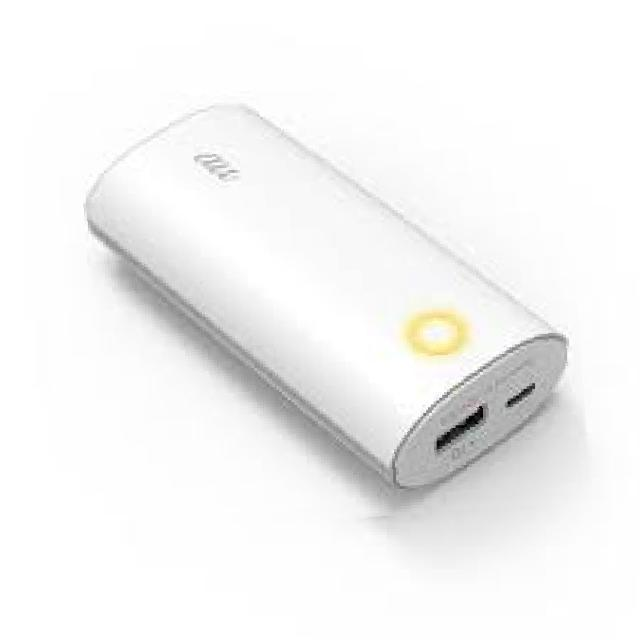Battery: (60, 82, 578, 528)
